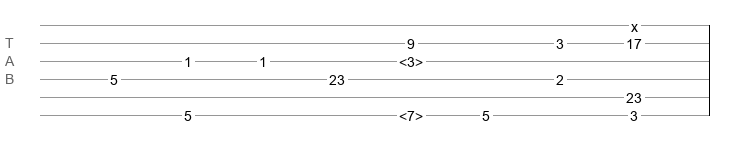1: (184, 54, 192, 64), (259, 54, 267, 64)
17: (626, 36, 642, 46)
2: (556, 72, 564, 82)
23: (329, 72, 345, 82), (626, 90, 642, 100)
3: (556, 36, 564, 46), (630, 108, 638, 118)
5: (110, 72, 118, 82), (184, 108, 192, 118), (482, 108, 490, 118)
9: (407, 36, 415, 46)
harmonic: (399, 54, 423, 64), (399, 108, 423, 118)
x: (631, 19, 638, 27)
